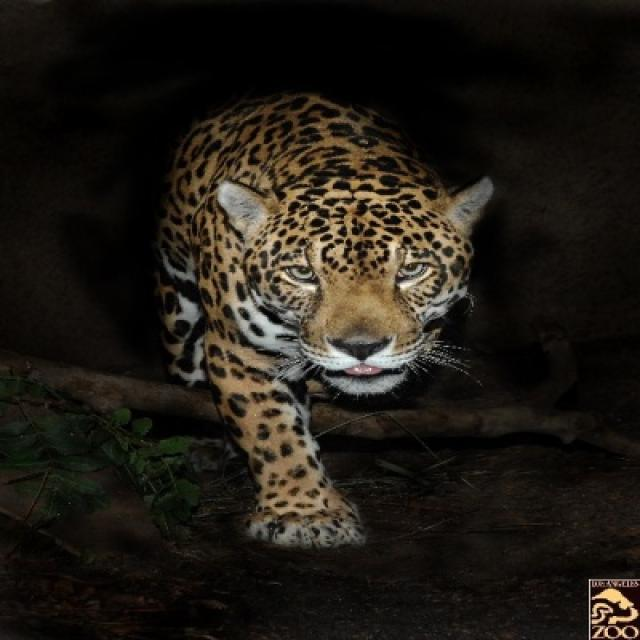Jaguar: (150, 86, 491, 552)
